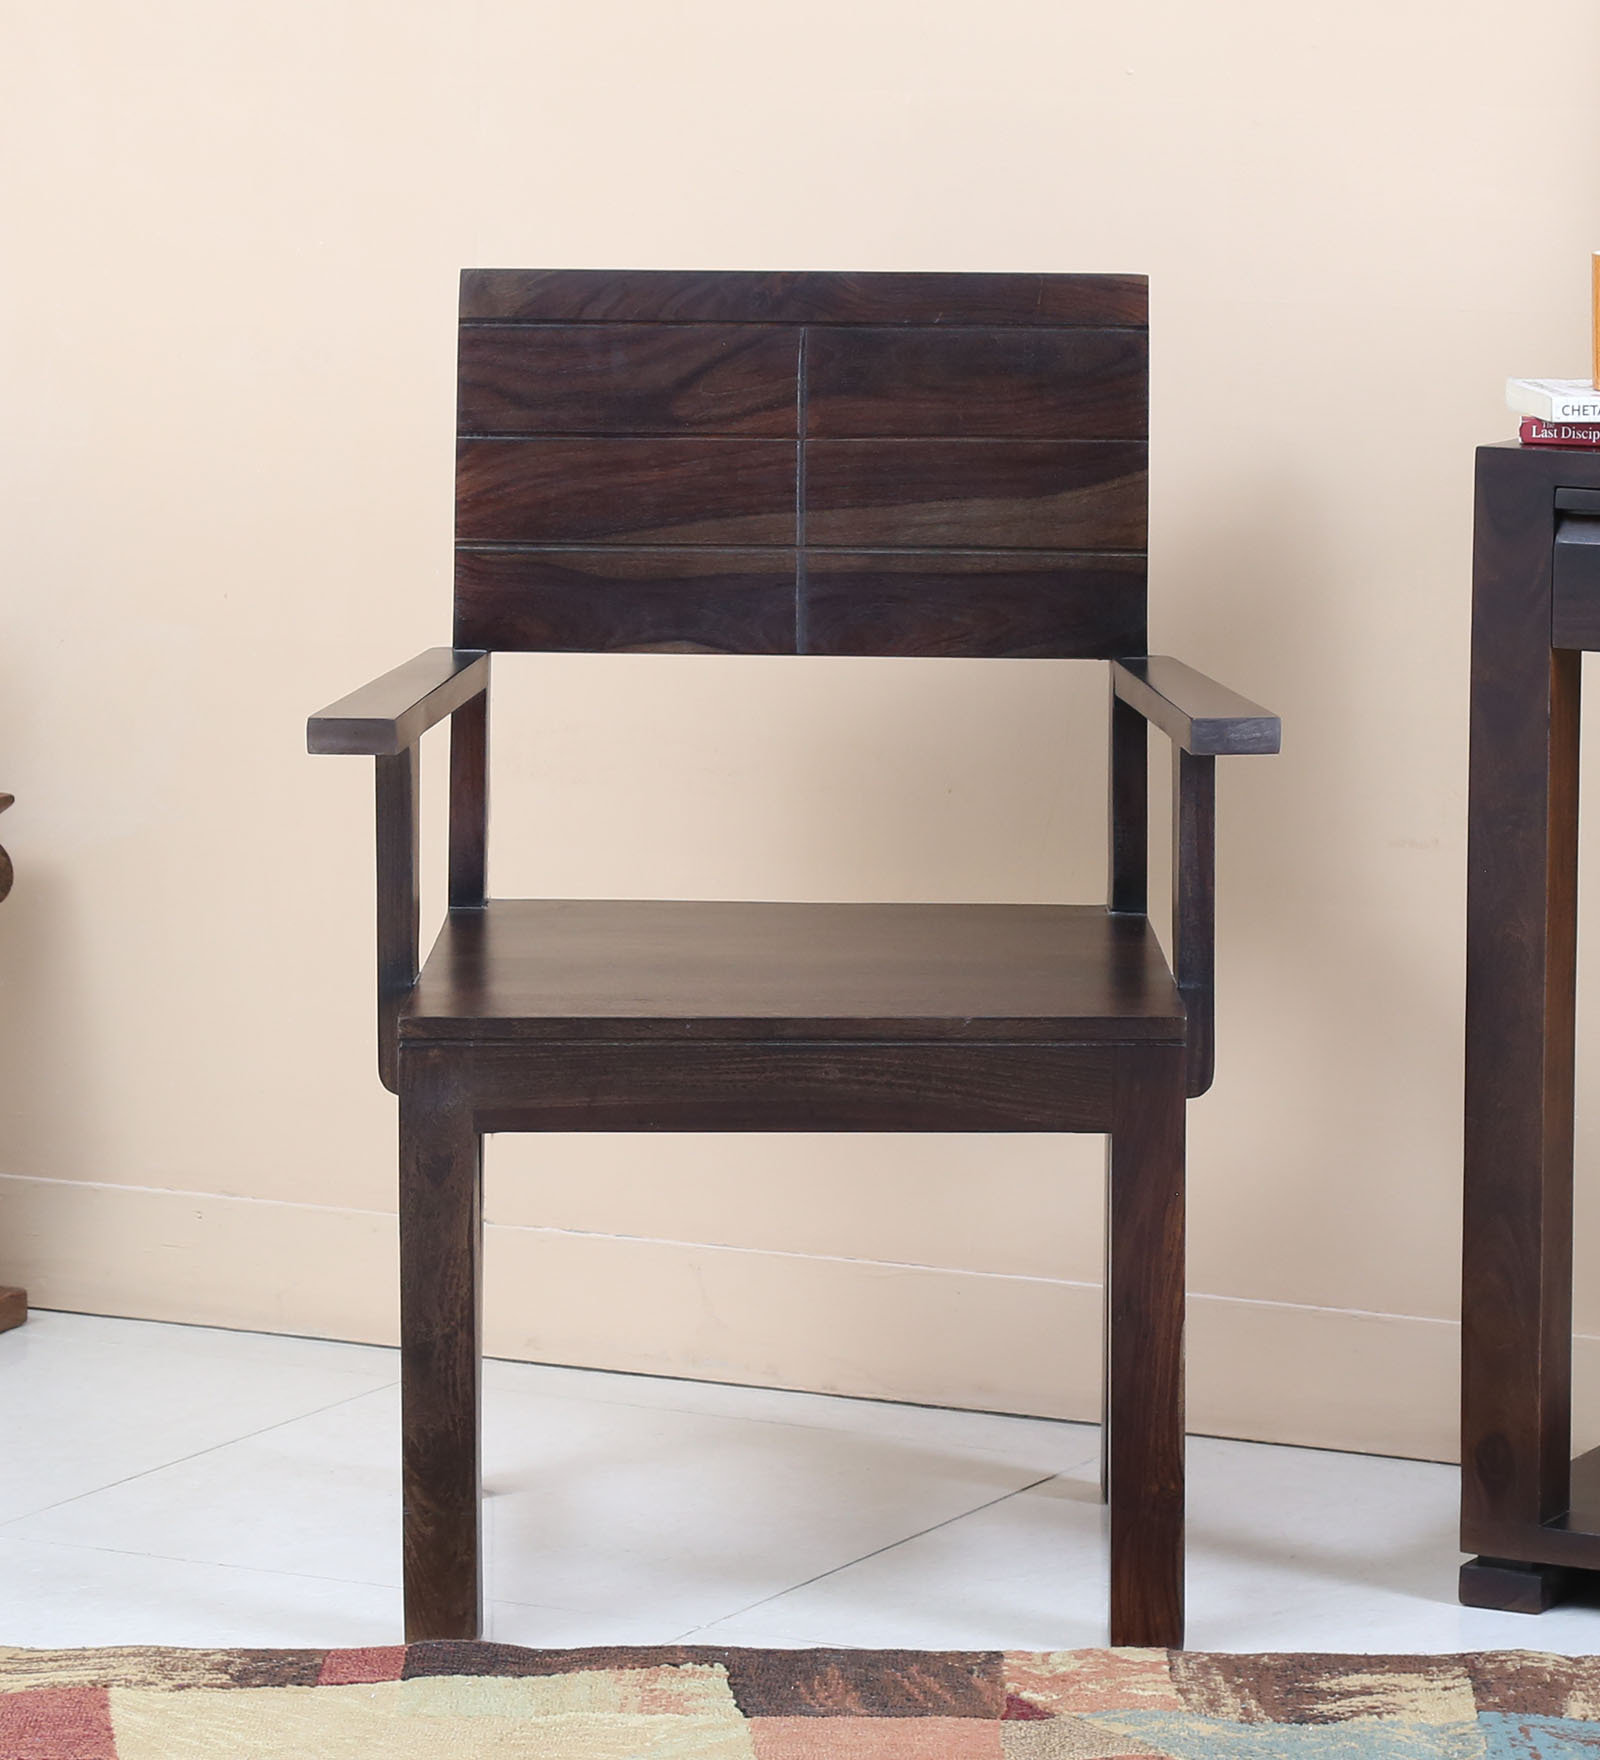Segur Arm Chair in Warm Chestnut Finish by Woodsworth: (342, 212, 1323, 1634)
